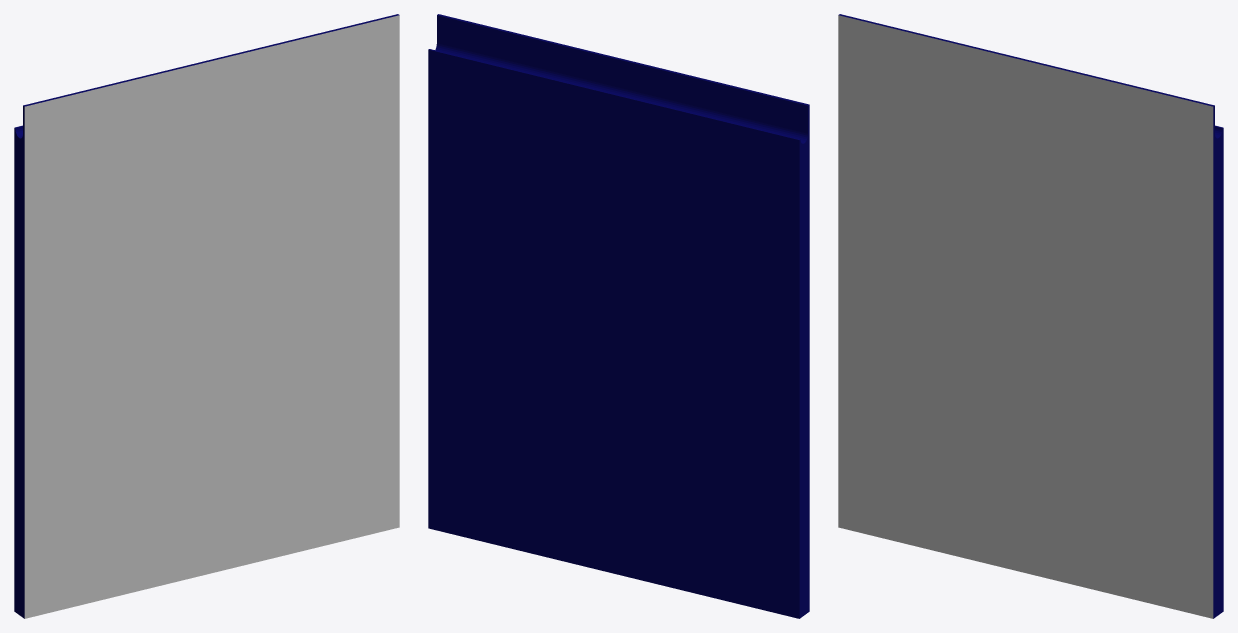
The picture shows the model from 3 angles, left to right: view 1: azimuth 30°, elevation 25°; view 2: azimuth 150°, elevation 25°; view 3: azimuth 330°, elevation 25°; orthographic projection.
Parts seen in each view (by area): view 1: root; view 2: root; view 3: root.
Part boxes in pixels (left/top/right/bottom): root: left=14, top=14, right=399, bottom=618; root: left=428, top=14, right=809, bottom=618; root: left=838, top=14, right=1223, bottom=618.
Size of the model in its own units: 0.4 by 0.522 by 0.019.
